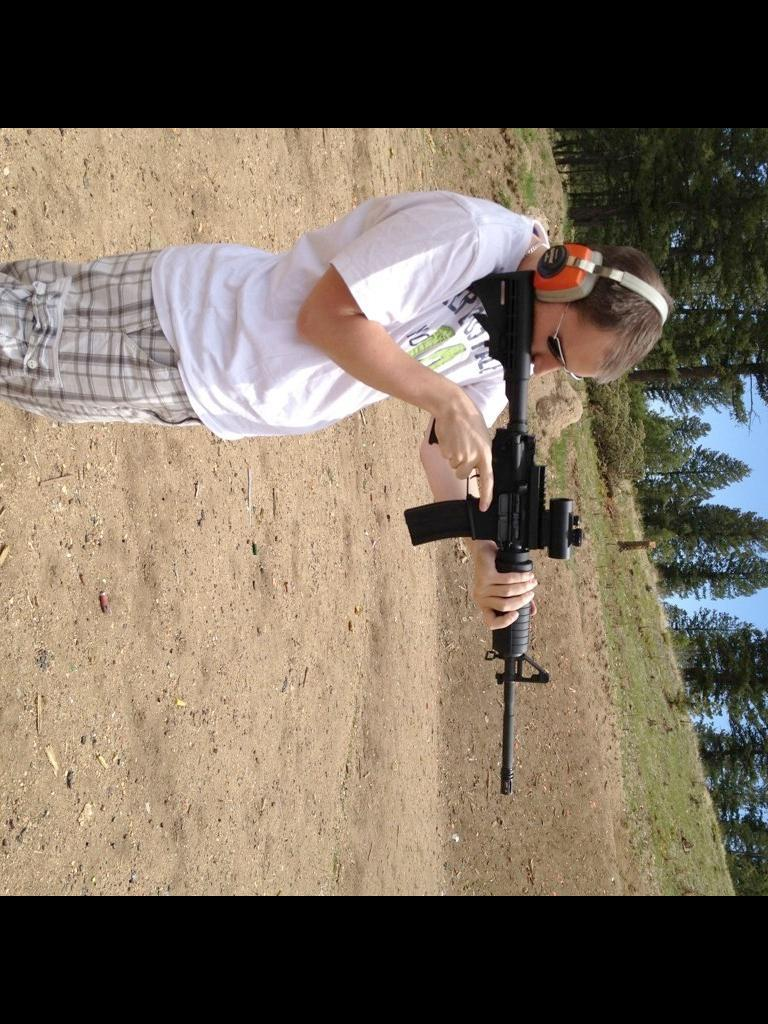gun: (399, 271, 584, 802)
